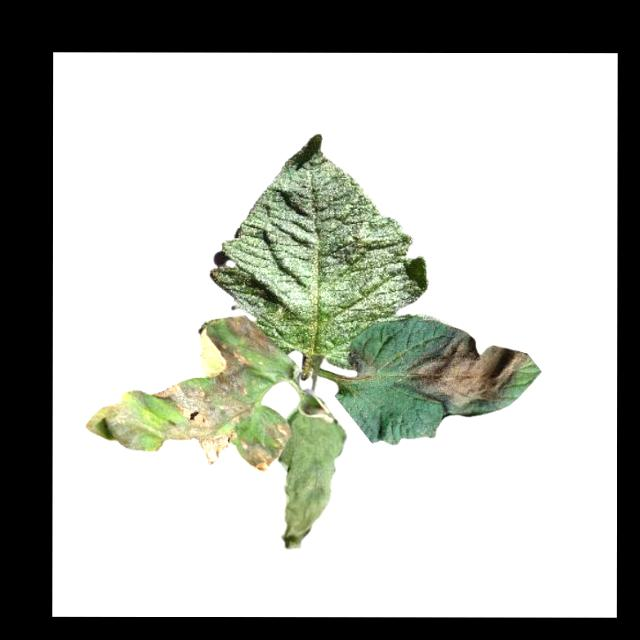Late_blight: (149, 316, 290, 473), (403, 328, 529, 406), (278, 414, 345, 551), (82, 402, 144, 451), (347, 350, 379, 379)
healthy: (209, 132, 428, 369)
